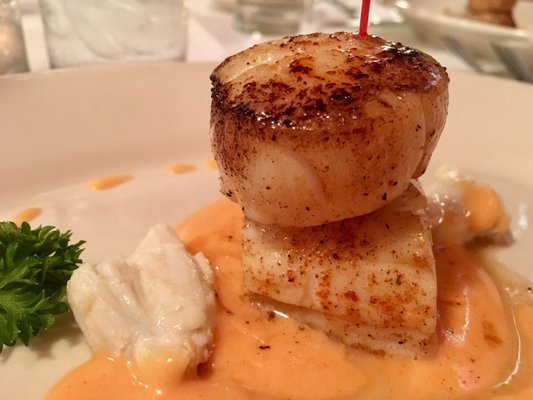pizza: (7, 0, 191, 72)
